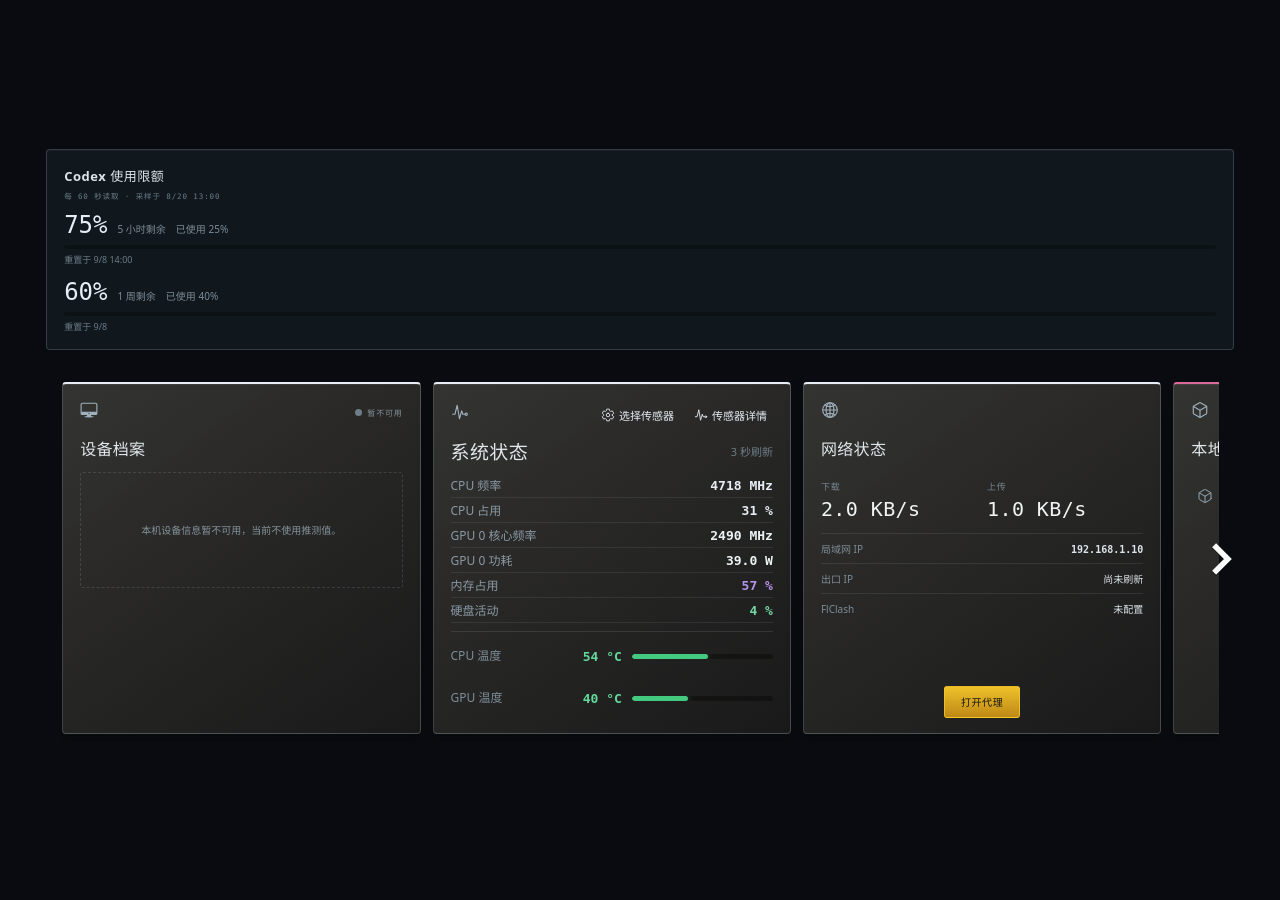
Scenario: LocalPage › lets users select card sensors and inspect all discovered readings
The width and height of the screenshot is (1280, 900).
Click the button "选择传感器" at (637, 414), box x1=595 y1=400 x2=680 y2=428
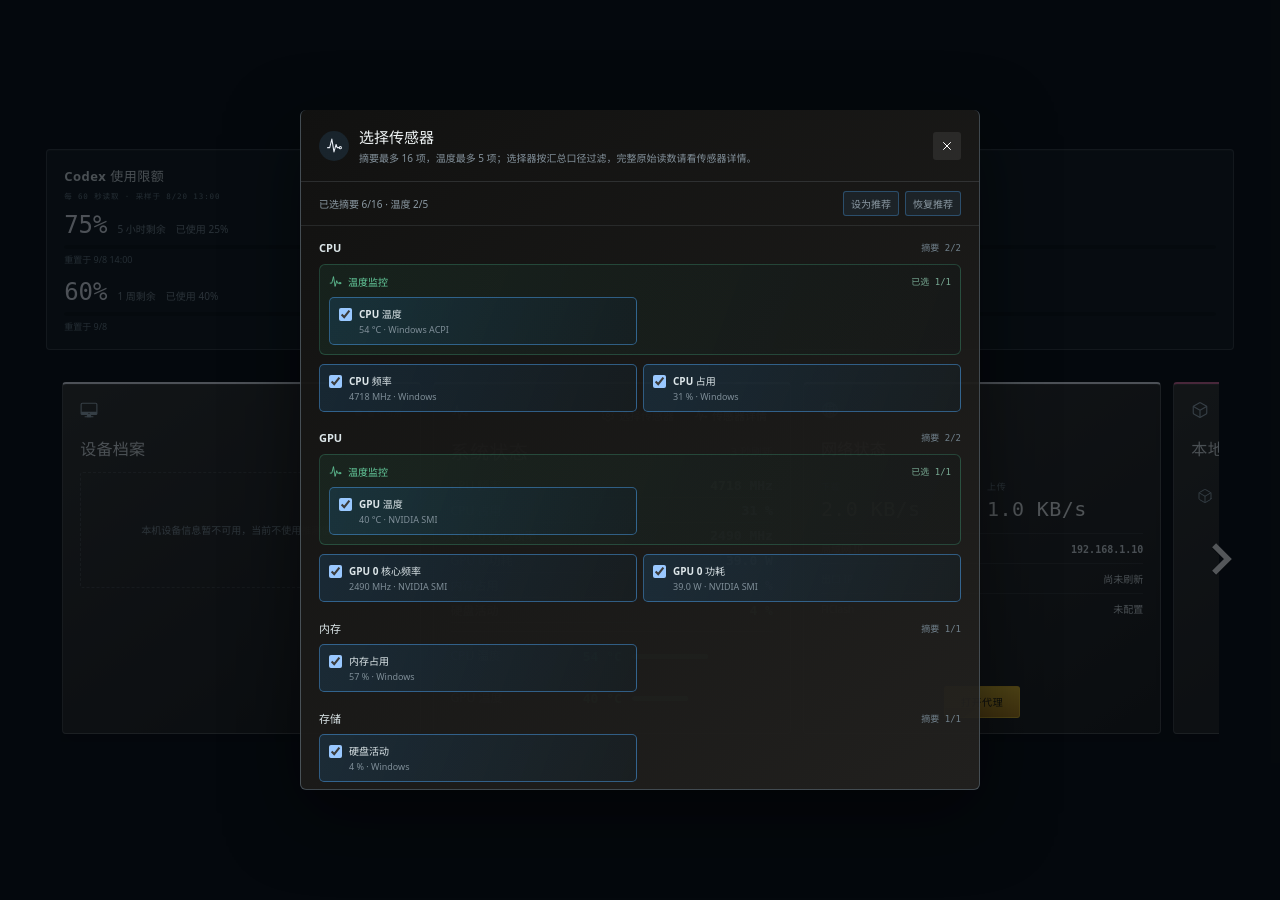
Now the dialog with id "obsui-sensor-picker" shows "选择传感器", box x1=359 y1=127 x2=434 y2=147
Now the dialog with id "obsui-sensor-picker" shows "CPU 频率", box x1=349 y1=374 x2=392 y2=388
Now the dialog with id "obsui-sensor-picker" shows "温度监控", box x1=348 y1=275 x2=388 y2=289
Click the checkbox labelled "GPU 0 功耗 39.0 W · NVIDIA SMI" at (660, 572), box x1=653 y1=565 x2=666 y2=578
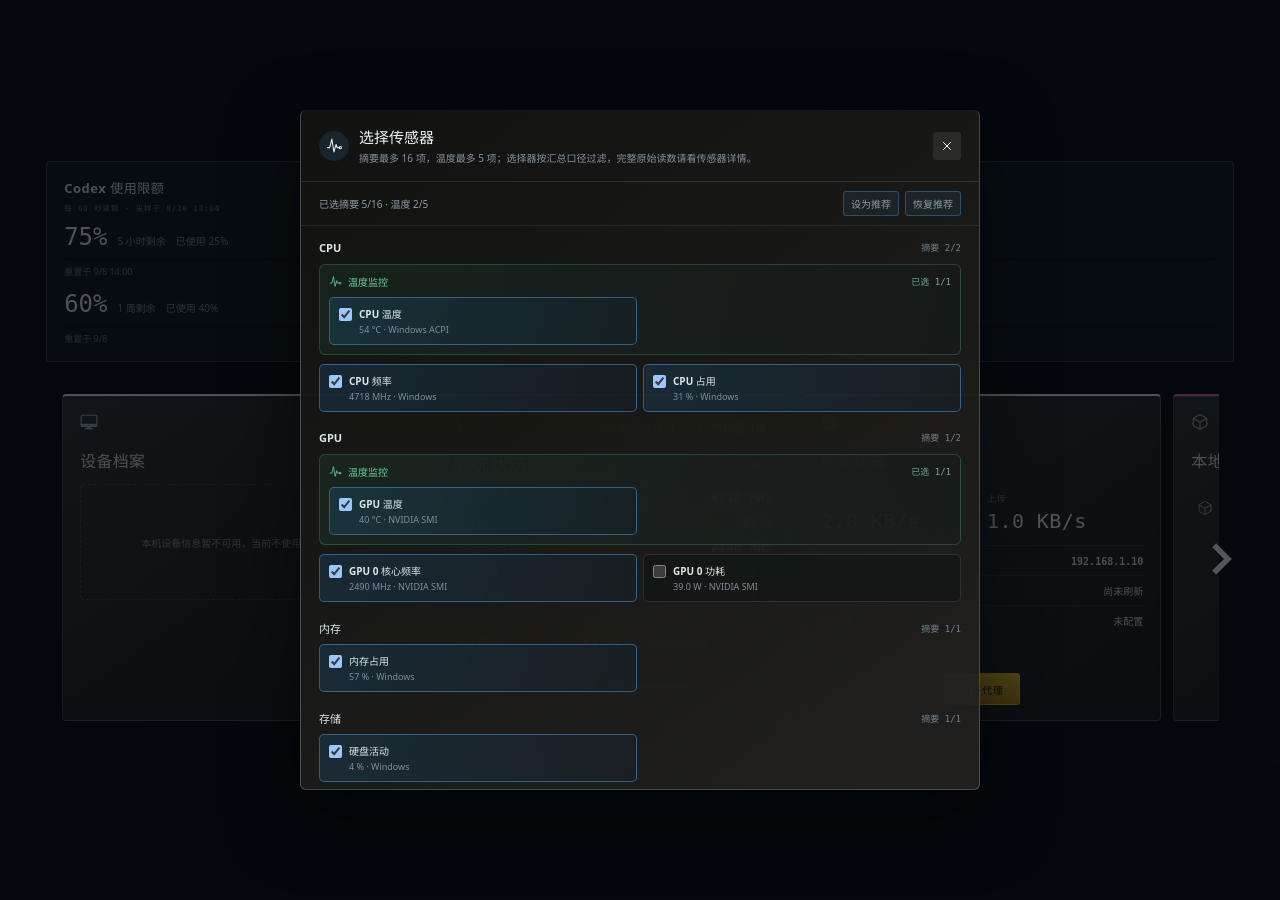
Expected: the element with id "obsui-sensor-picker" does not show "暂不可用"
Now the dialog with id "obsui-sensor-picker" shows "CPU 占用", box x1=673 y1=374 x2=716 y2=388
Click the button "设为推荐" at (871, 204), box x1=843 y1=191 x2=899 y2=216
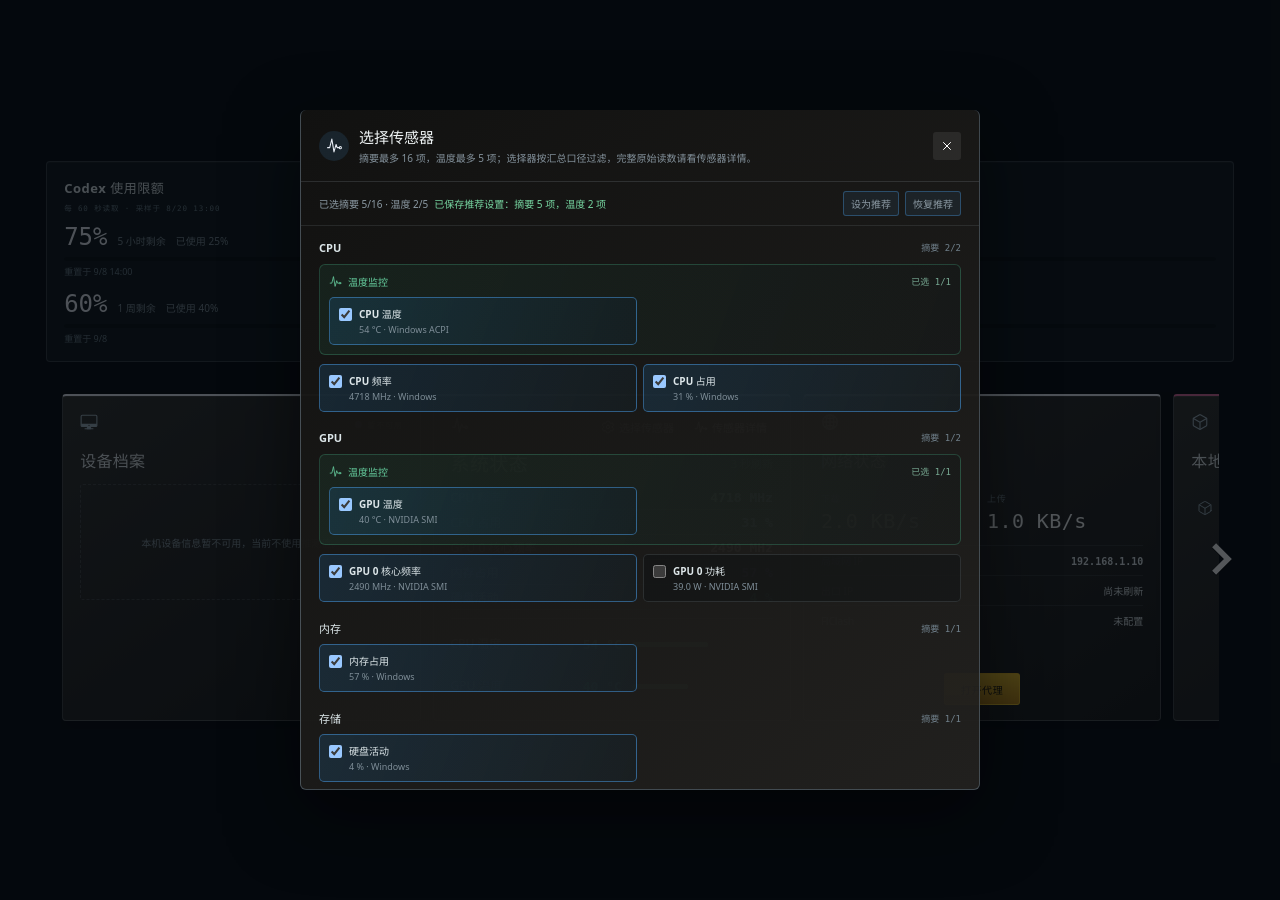
Now the dialog with id "obsui-sensor-picker" shows "已保存推荐设置", box x1=434 y1=197 x2=606 y2=211
Click the button named "关闭选择传感器" at (947, 146), box x1=933 y1=132 x2=961 y2=160
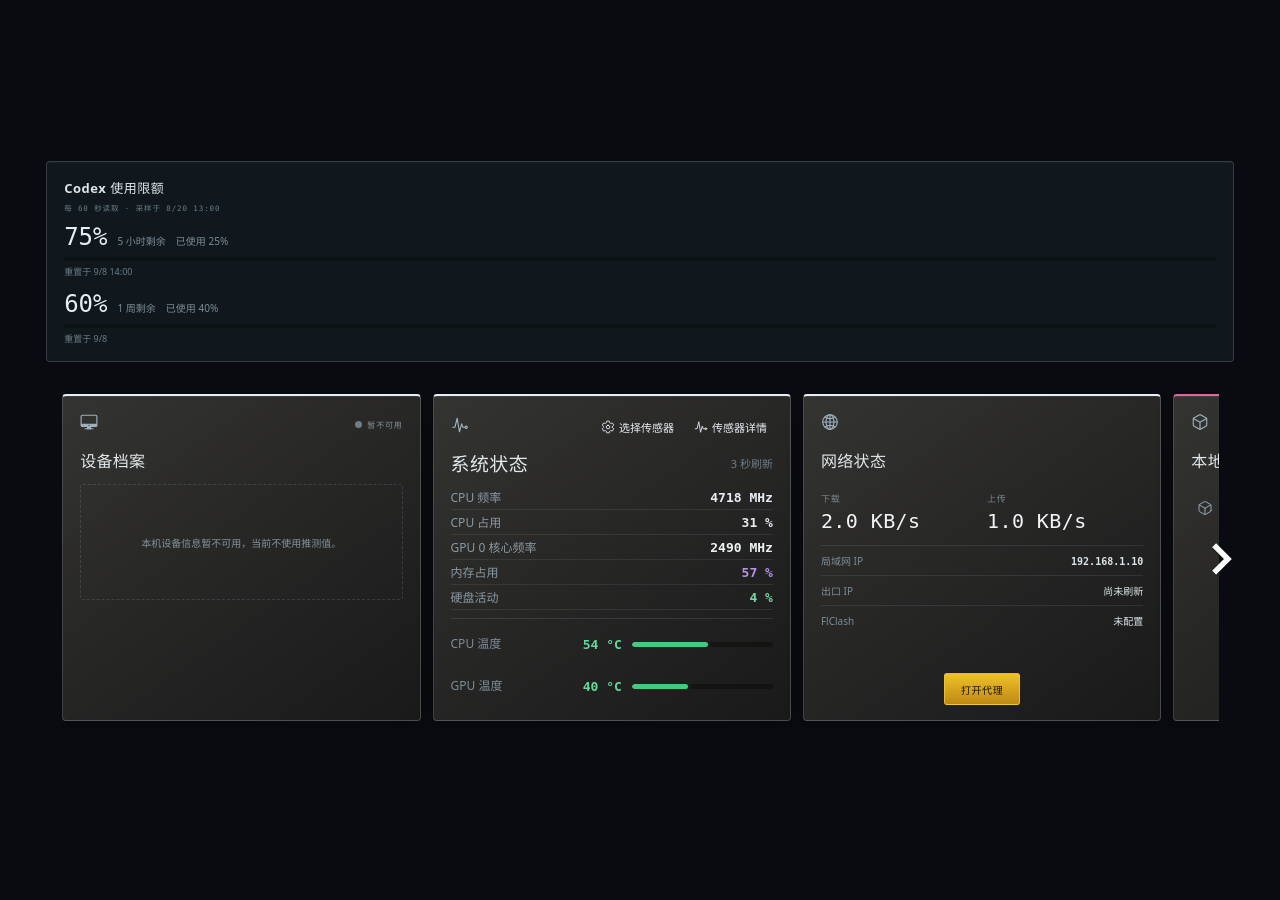
Click the button "传感器详情" at (730, 427), box x1=688 y1=413 x2=773 y2=441
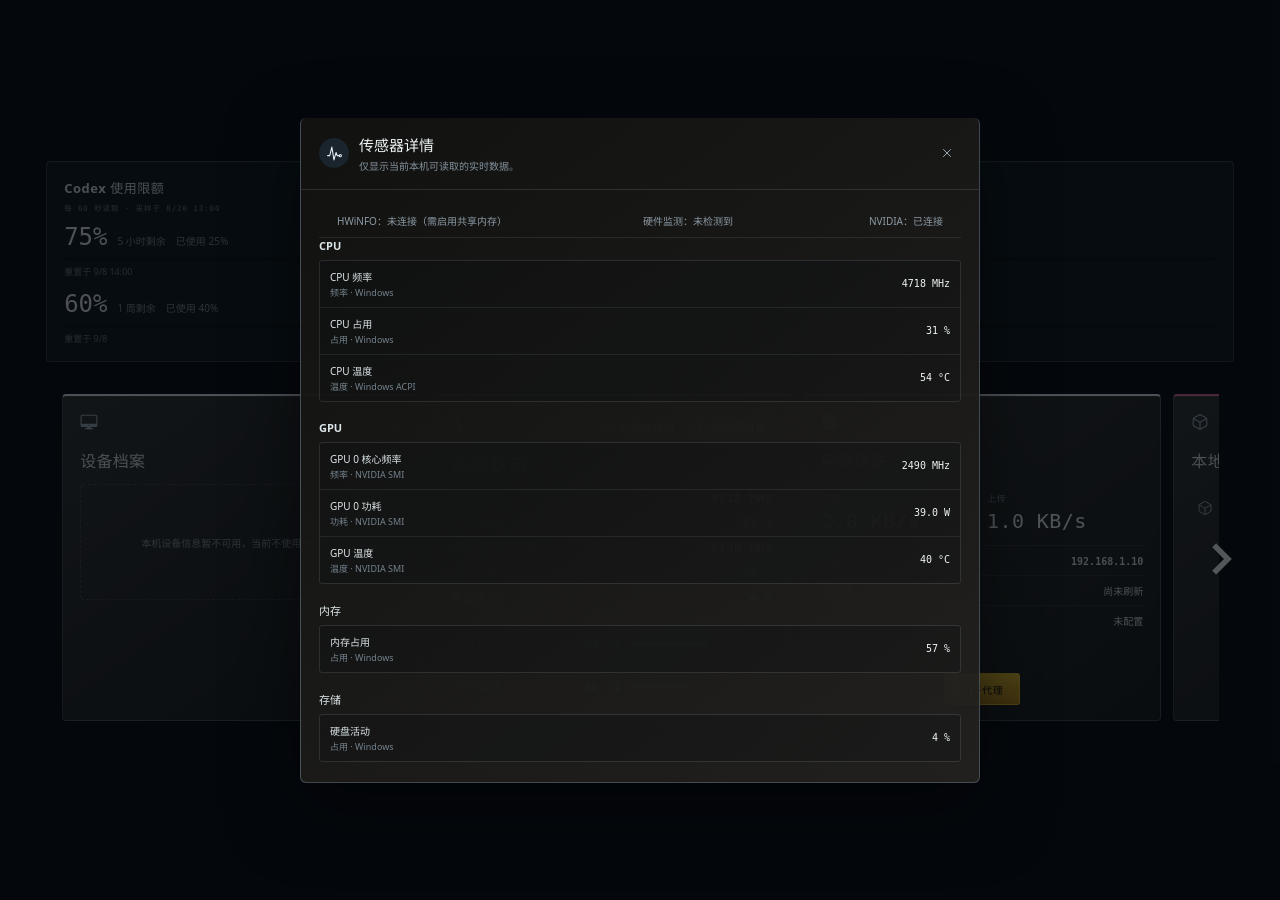
Now the dialog with id "obsui-sensor-details" shows "传感器详情", box x1=359 y1=134 x2=434 y2=154
Now the dialog with id "obsui-sensor-details" shows "NVIDIA：已连接", box x1=300 y1=118 x2=980 y2=782
Now the dialog with id "obsui-sensor-details" shows "NVIDIA SMI", box x1=355 y1=468 x2=404 y2=480
